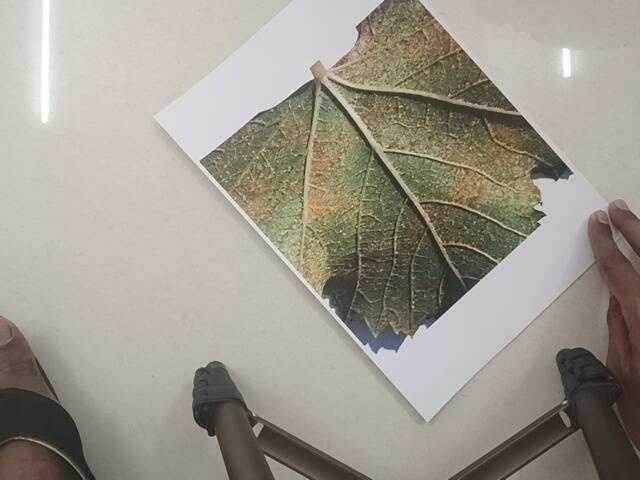Grape_Rust_Fungus: (198, 3, 571, 337)
